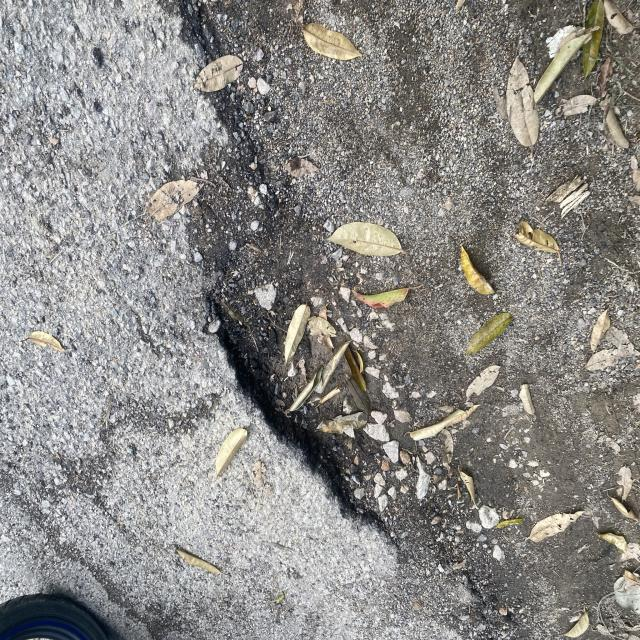Pothole: (134, 142, 447, 597)
